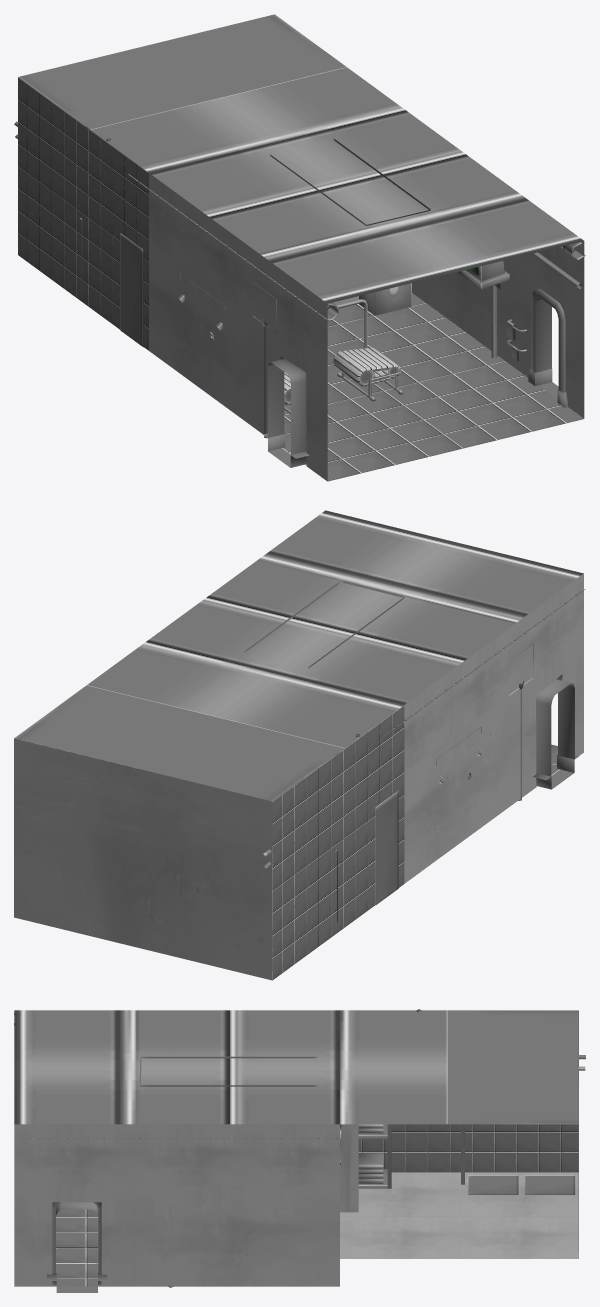
The model's file is MSH_endurance_room_L2_R1_optimized.fbx.
3 renders of one model, top to bottom at view 1: azimuth 30°, elevation 25°; view 2: azimuth 150°, elevation 25°; view 3: azimuth 270°, elevation 25°, orthographic. The views are drawn at different scales.
Visible parts, largest first — view 1: lightmap1, lightmap-1; view 2: lightmap1, lightmap-1; view 3: lightmap1, lightmap-1.
Part boxes in pixels (x1=…): lightmap1: x1=14, y1=14, x2=585, y2=481; lightmap-1: x1=267, y1=297, x2=558, y2=467; lightmap1: x1=14, y1=510, x2=585, y2=980; lightmap-1: x1=536, y1=679, x2=574, y2=789; lightmap1: x1=14, y1=1009, x2=585, y2=1287; lightmap-1: x1=56, y1=1202, x2=98, y2=1292.
Bounding box in the file's own units: 10.3 × 6.28 × 19.68.
7 materials, 7 textured.
